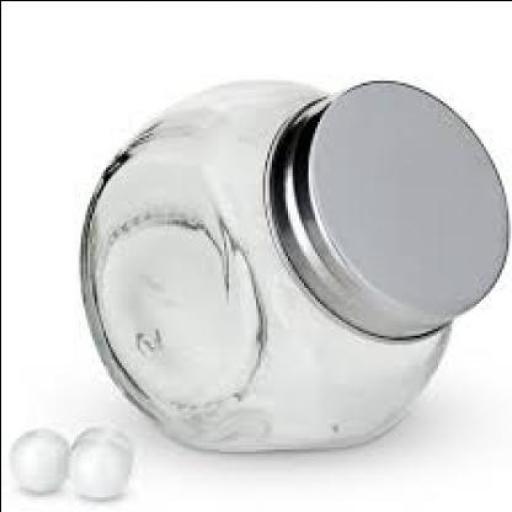glass: (77, 75, 449, 451)
metal: (268, 77, 504, 339)
